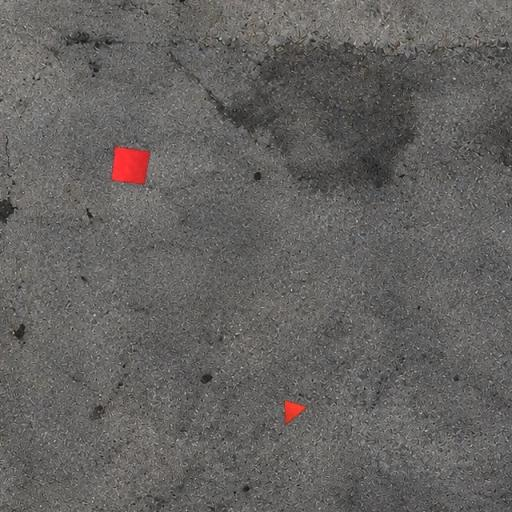RED_SQUARE: (110, 146, 150, 186)
